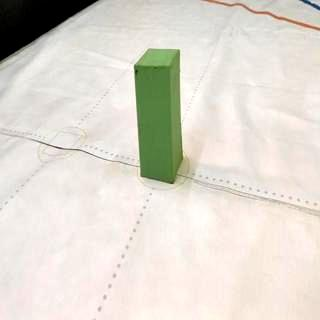greenbox: (134, 47, 183, 185)
